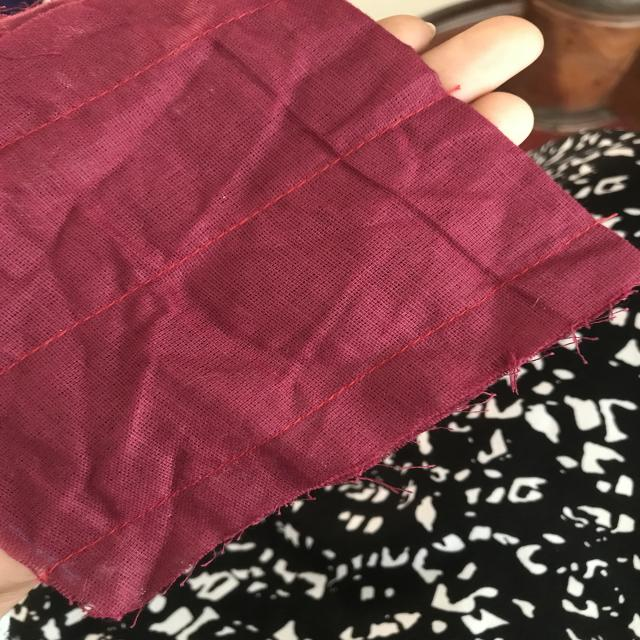good: (182, 178, 306, 291)
